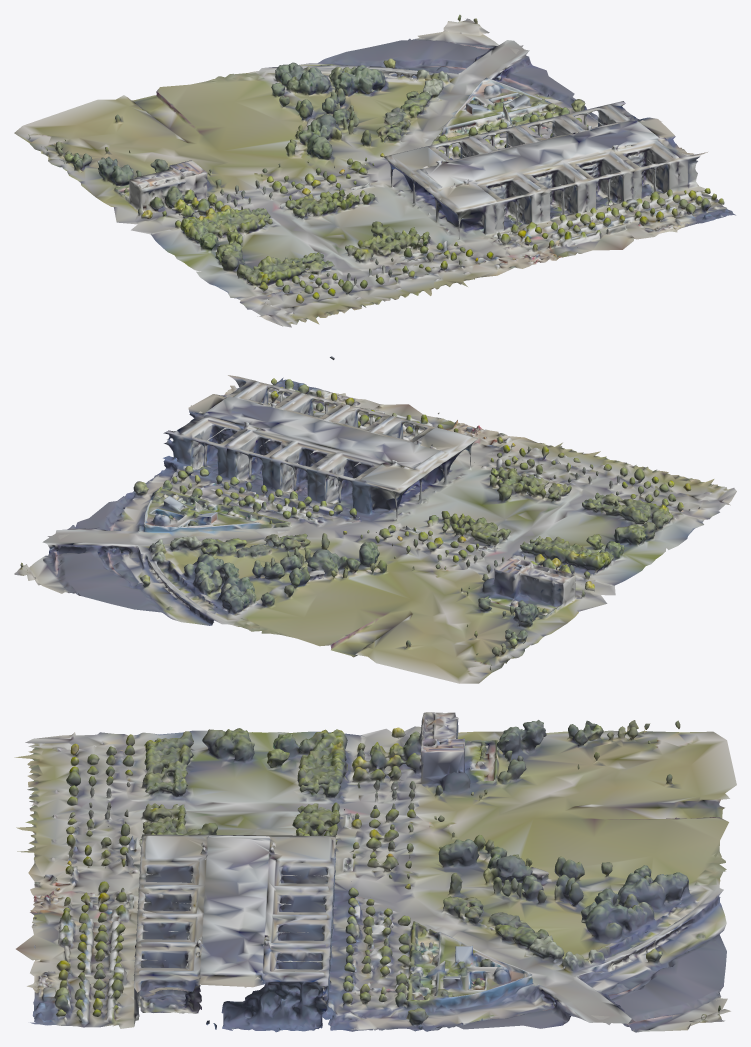
Rendered from tile-3894_58200.glb.
3 views of the same model, one above another, from view 1: azimuth 30°, elevation 25°; view 2: azimuth 150°, elevation 25°; view 3: azimuth 270°, elevation 25° (orthographic). The views are drawn at different scales.
Parts seen in each view (by area): view 1: world; view 2: world; view 3: world.
Part boxes in pixels (x1,y1,x2,y2): world: (14,14,735,327); world: (14,356,736,683); world: (14,712,736,1032).
Bounding box in the file's own units: 382 × 32.96 × 380.
